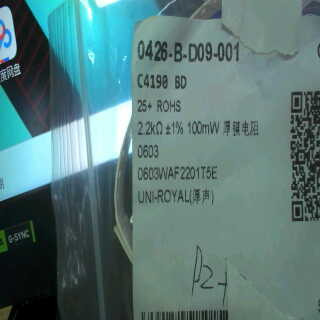2.2kR: (136, 118, 168, 136)
